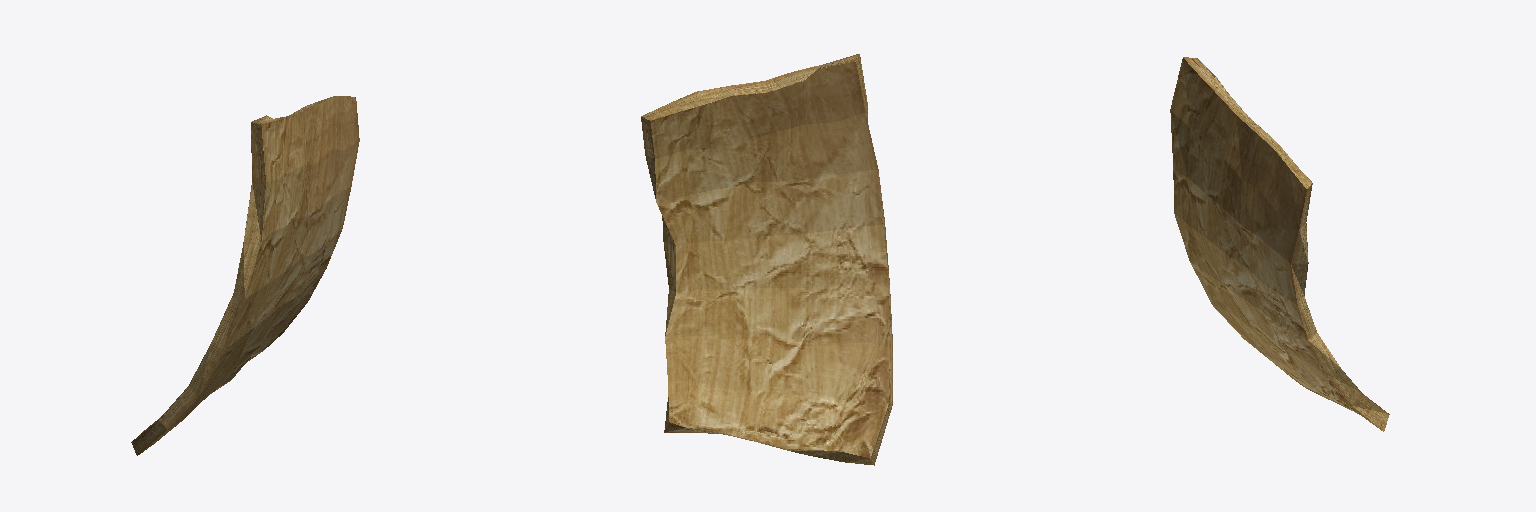
The picture shows the model from 3 angles: view 1: azimuth 30°, elevation 25°; view 2: azimuth 150°, elevation 25°; view 3: azimuth 270°, elevation 25°; orthographic projection.
Parts seen in each view (by area): view 1: carton; view 2: carton; view 3: carton.
Part boxes in pixels (x1,y1,x2,y2): carton: (131, 96, 359, 455); carton: (641, 54, 892, 465); carton: (1170, 57, 1389, 431).
Size of the model in its own units: 68.33 by 102 by 57.13.
1 materials, 1 textured.